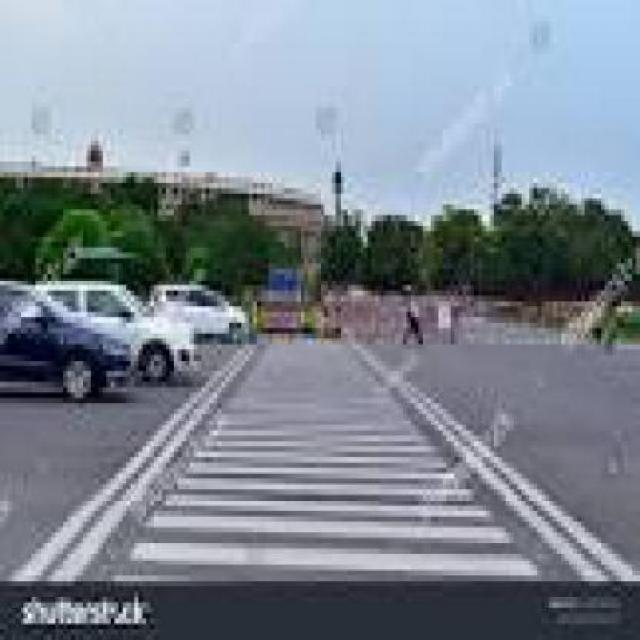vehicle: (0, 283, 126, 402)
